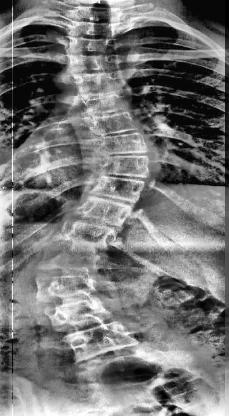Vertebrae: (58, 325, 148, 357), (31, 271, 103, 301), (32, 244, 104, 274), (49, 219, 120, 249), (64, 198, 138, 224), (46, 302, 114, 330), (81, 176, 151, 202), (88, 130, 152, 158), (71, 91, 135, 119), (92, 155, 152, 181), (86, 112, 146, 138), (70, 70, 132, 94), (60, 18, 130, 38), (62, 52, 120, 72), (60, 37, 118, 55)
